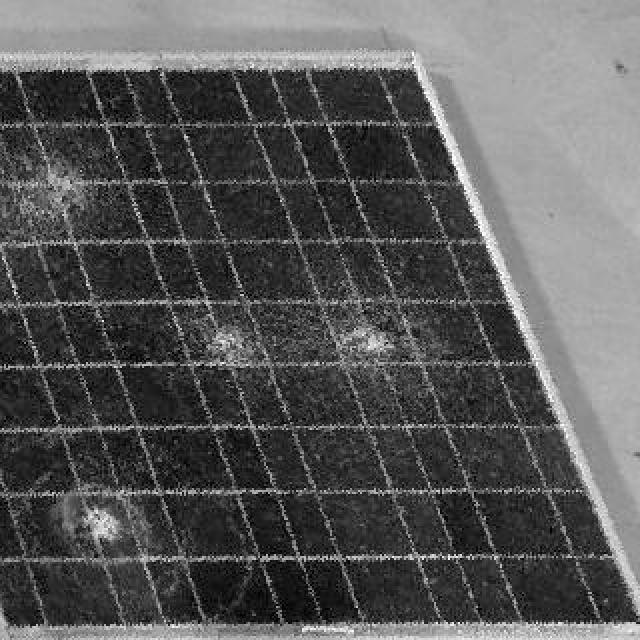Physical-damage: (19, 75, 502, 605)
